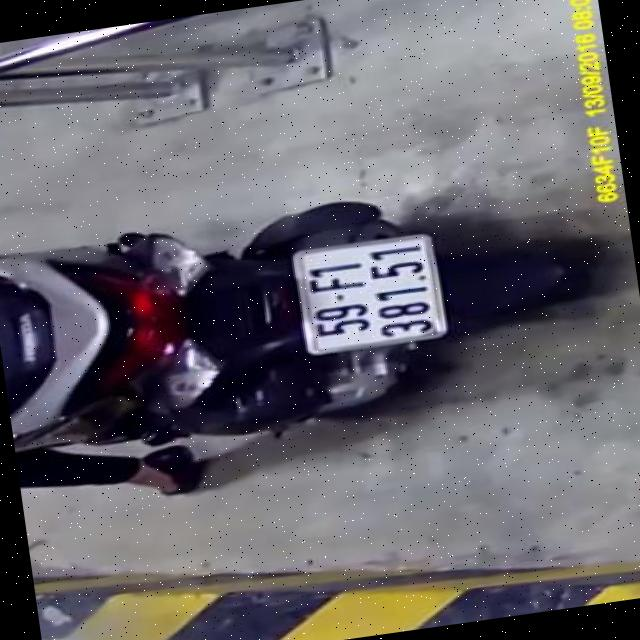license_plate: (296, 232, 447, 354)
